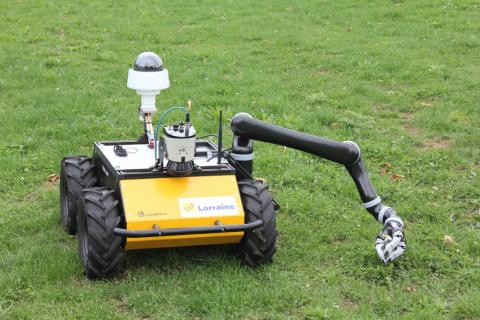husky: (59, 135, 279, 282)
